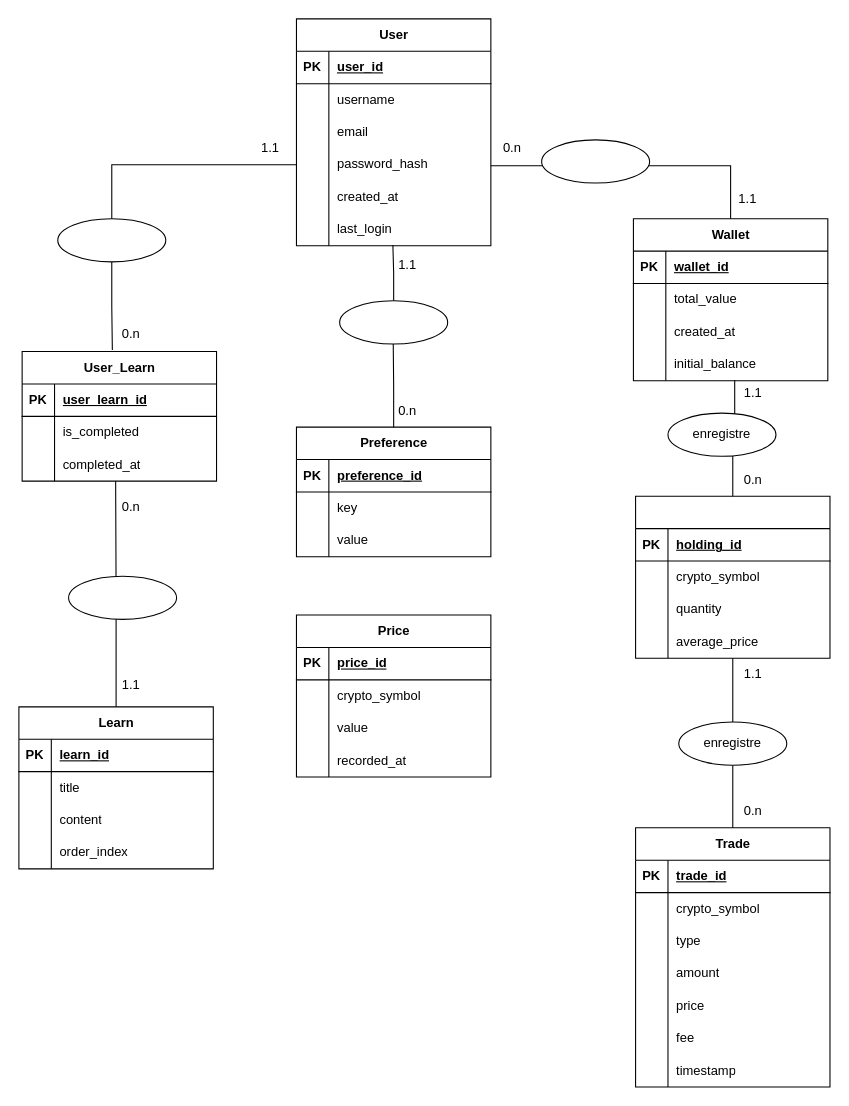
The diagram is 849 pixels wide and 1106 high, and some of its shapes have lost their labels. The box of each missing label's shape, as (x1, y1, x2, y2) in pixels:
Complete: (57, 218, 166, 262)
definit: (339, 300, 448, 344)
est suivi dans: (68, 575, 177, 619)
possede: (541, 139, 650, 183)
Wallet_holding: (634, 495, 830, 658)
